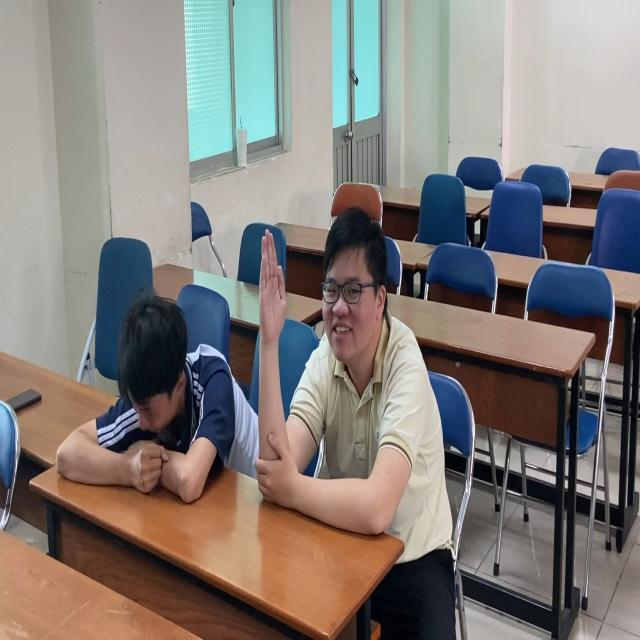raise_hand: (260, 200, 430, 552)
sleep: (54, 298, 257, 500)
